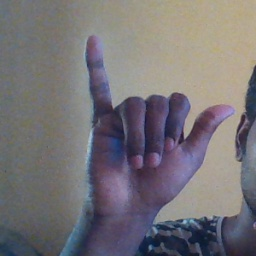J: (81, 40, 234, 219)
